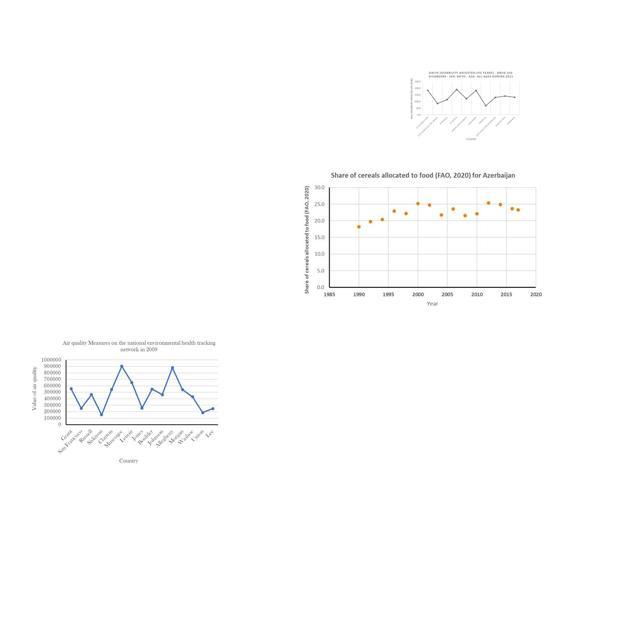Graph: (299, 167, 548, 315), (29, 337, 222, 466), (408, 69, 522, 142)
